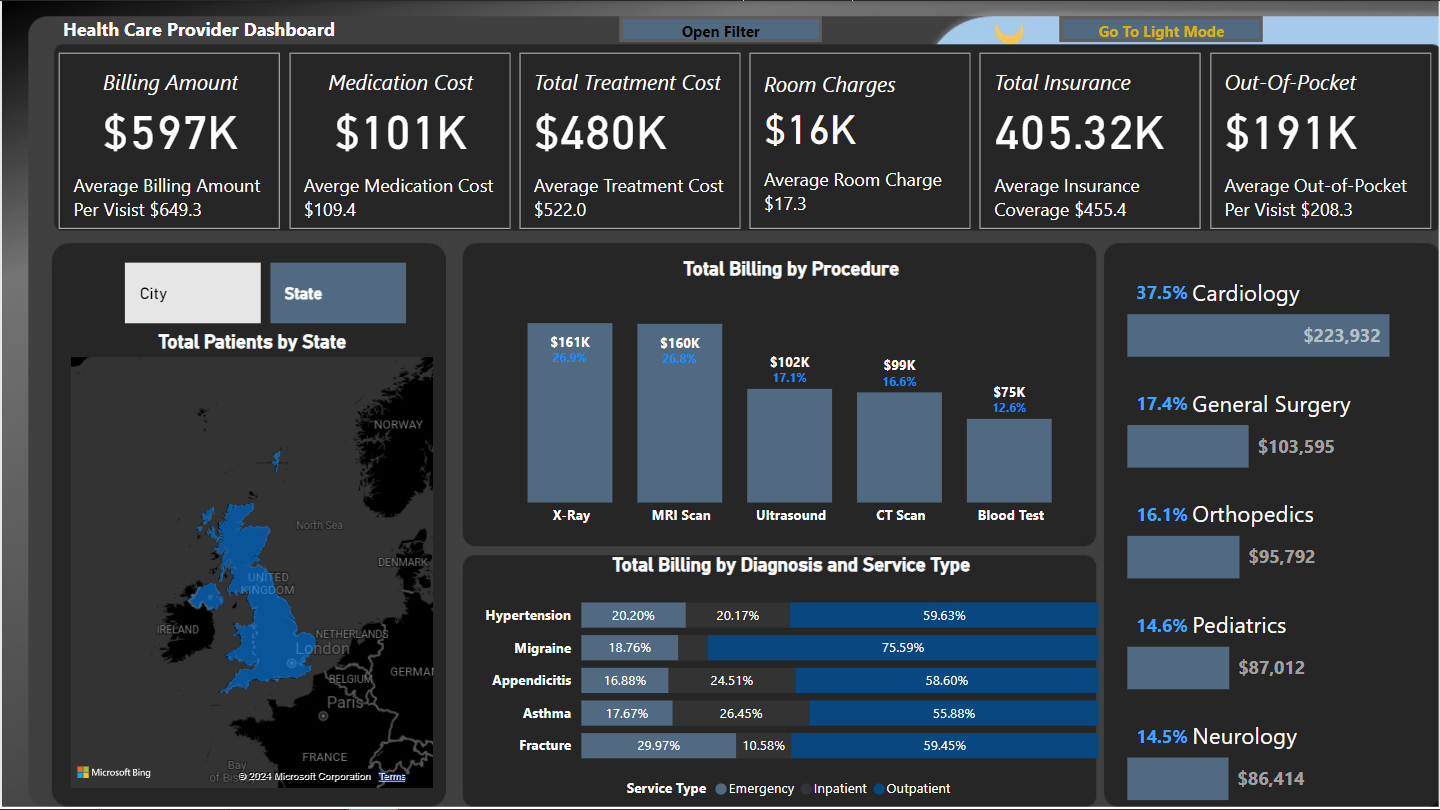

What the dashboard file says about the page in this screenshot:
{"tool":"powerbi","page":{"name":"dark mode","canvas":[1280,720],"ordinal":0},"visuals":[{"type":"cardVisual","fields":{"Data":["_Measures.Total Billing","_Measures.Total medication Cost","_Measures.Total Treatment Cost","_Measures.Total Room Charges","_Measures.Total Insurance Coverage","_Measures.Out-Of-Pocket"]},"box":[45.7,41.6,1234.6,167.7],"z":0},{"type":"filledMap","fields":{"Category":["cities.State"]},"box":[56.3,292.6,332.4,413.5],"z":1000},{"type":"advancedSlicerVisual","fields":{"Values":["Location Pramter.Location Pramter"]},"box":[104.4,228,261,64.6],"z":2000},{"type":"columnChart","fields":{"Category":["procedures.Procedure"],"Y":["_Measures.Total Billing"]},"box":[424.5,228,557.7,248.6],"z":3000},{"type":"hundredPercentStackedBarChart","fields":{"Y":["_Measures.Total Billing"],"Category":["diagnoses.Diagnosis"],"Series":["visits.Service Type"]},"box":[424.5,491.8,557.7,228],"z":4000},{"type":"clusteredBarChart","fields":{"Category":["departments.Department"],"Y":["_Measures.Blank Measures","_Measures.Total Billing"]},"box":[997.3,228,273.4,491.8],"z":5000},{"type":"actionButton","box":[941.3,13.7,181.1,23.3],"z":6000},{"type":"textbox","box":[45.8,8.4,293.2,33.8],"z":7000},{"type":"actionButton","box":[549.9,13.4,180.3,23.4],"z":7001}]}

Visuals, with their boxes in screenshot pixels (x1, y1, x2, y2), scaled from the page's 1280x720 canvas onto the 1440x810 screenshot:
cardVisual - _Measures.Total Billing x _Measures.Total medication Cost: box=[51, 47, 1439, 235]
filledMap - cities.State: box=[63, 329, 437, 794]
advancedSlicerVisual - Location Pramter.Location Pramter: box=[117, 256, 411, 329]
columnChart - procedures.Procedure x _Measures.Total Billing: box=[478, 256, 1105, 536]
hundredPercentStackedBarChart - _Measures.Total Billing x diagnoses.Diagnosis: box=[478, 553, 1105, 809]
clusteredBarChart - departments.Department x _Measures.Blank Measures: box=[1122, 256, 1430, 809]
actionButton: box=[1059, 15, 1263, 42]
textbox: box=[52, 9, 381, 47]
actionButton: box=[619, 15, 821, 41]
